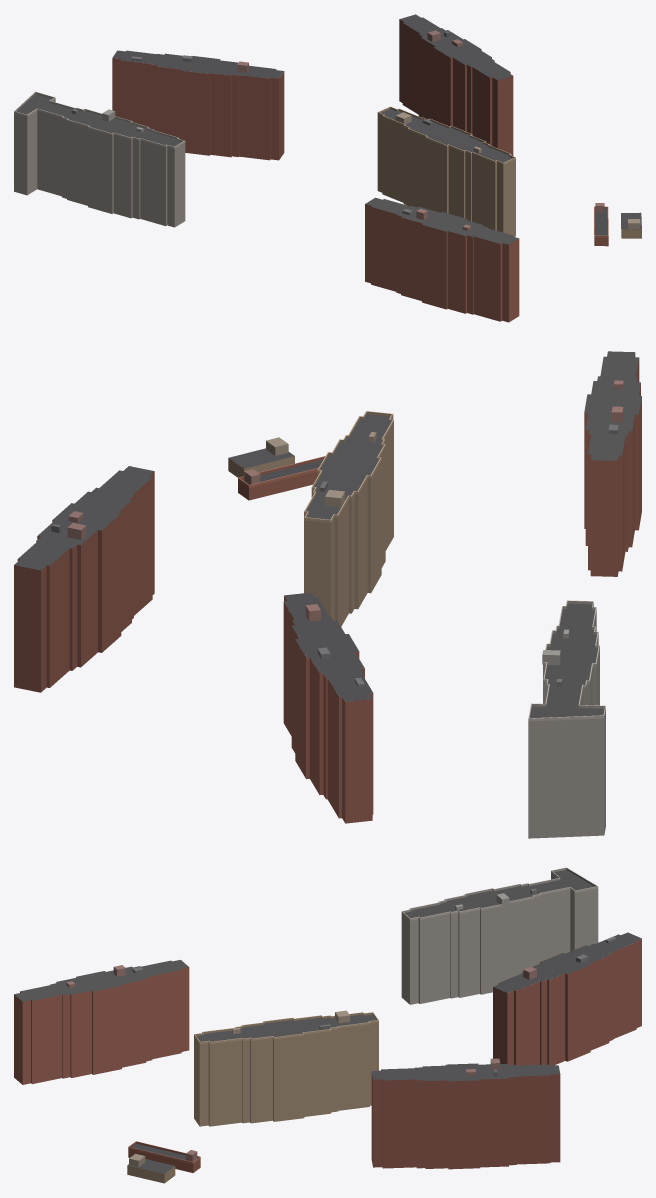
The model's file is 20_44.bld.glb.
3 views of the same model, one above another, from view 1: azimuth 30°, elevation 25°; view 2: azimuth 150°, elevation 25°; view 3: azimuth 270°, elevation 25° (orthographic). The views are drawn at different scales.
Visible parts, largest first — view 1: 20_44; view 2: 20_44; view 3: 20_44.
Part boxes in pixels (x1,y1,x2,y2): 20_44: [14, 14, 641, 322]; 20_44: [14, 351, 641, 838]; 20_44: [14, 867, 641, 1183].
Bounding box in the file's own units: 224 × 43.13 × 258.
